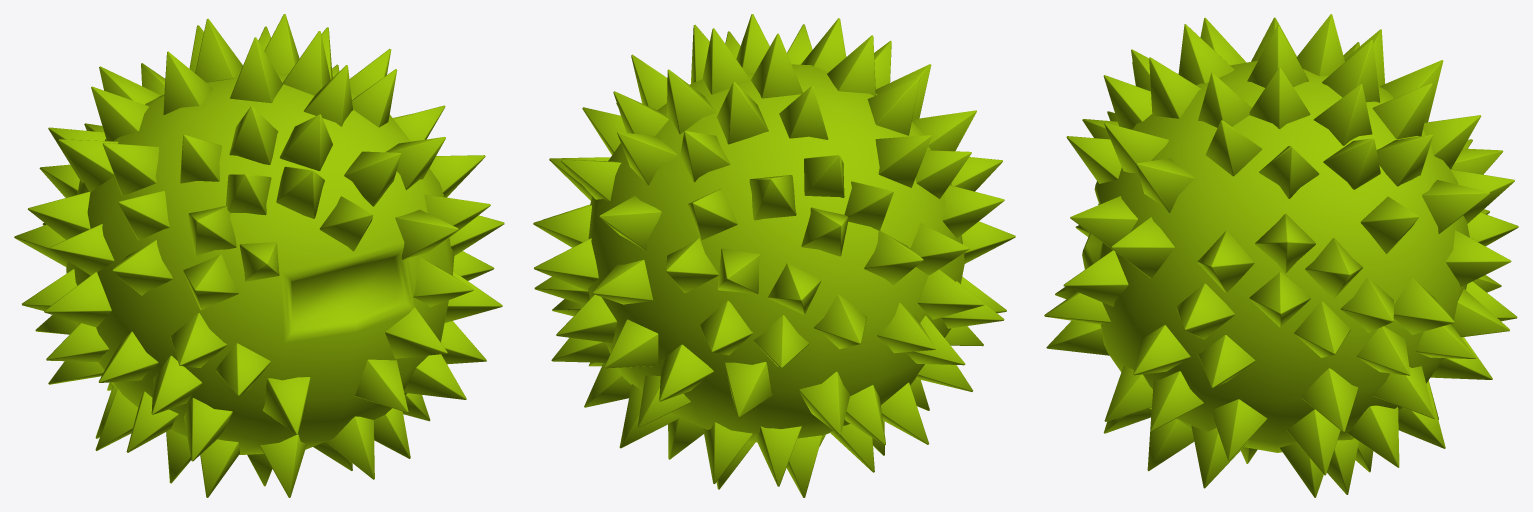
File: Enemy02_UVs_Done02.fbx
3 renders of one model, left to right at view 1: azimuth 30°, elevation 25°; view 2: azimuth 150°, elevation 25°; view 3: azimuth 270°, elevation 25°, orthographic. The views are drawn at different scales.
Visible parts, largest first — view 1: Body; view 2: Body; view 3: Body.
Part boxes in pixels (x1,y1,x2,y2): Body: (14,14,504,497); Body: (533,14,1015,497); Body: (1044,14,1518,497).
Bounding box in the file's own units: 466 × 459 × 447.
